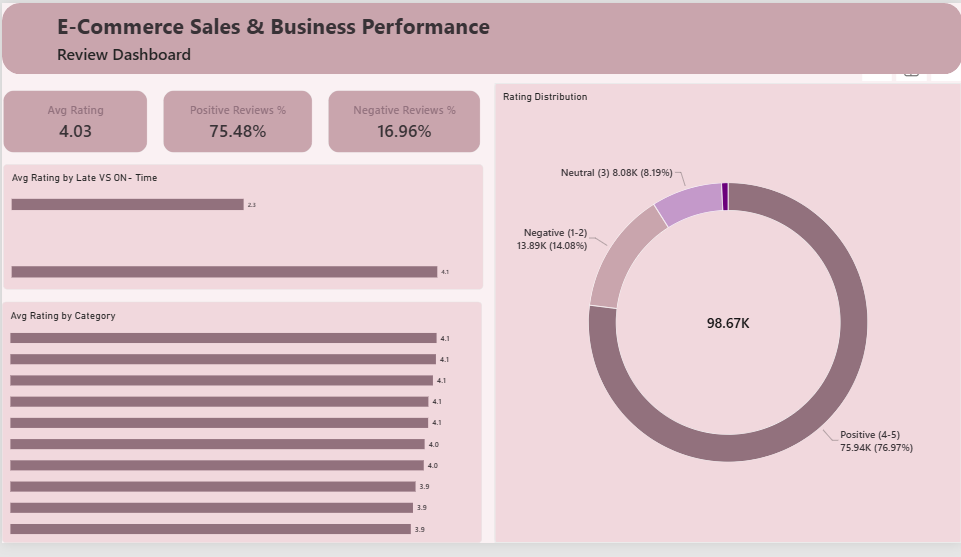

The page's visual inventory and layout, read from the dashboard file:
{"tool":"powerbi","page":{"name":"Review","canvas":[1920,1080],"ordinal":5},"visuals":[{"type":"cardVisual","title":"On Time %","fields":{"Data":["public bi_fact_sales.Avg Rating"]},"box":[2.5,175,288,124],"z":0},{"type":"cardVisual","title":"On Time %","fields":{"Data":["public bi_fact_sales.Positive Reviews %"]},"box":[322.5,175,298,124],"z":1000},{"type":"cardVisual","title":"On Time %","fields":{"Data":["public bi_fact_sales.Negative Reviews %"]},"box":[652.5,175,304,124],"z":2000},{"type":"donutChart","title":"Rating Distribution","fields":{"Category":["public bi_fact_sales.Review Bucket"],"Y":["public bi_fact_sales.Orders"]},"box":[985,160,935,920],"z":3000},{"type":"barChart","title":"Avg Rating by Late VS ON- Time","fields":{"Category":["public bi_fact_sales.is_late"],"Y":["public bi_fact_sales.Avg Rating"]},"box":[2.5,322.5,960,250],"z":4000},{"type":"barChart","title":"Avg Rating by Category","fields":{"Category":["public bi_fact_sales.category"],"Y":["public bi_fact_sales.Avg Rating"]},"box":[0,597.5,960,482.5],"z":5000},{"type":"group","id":"g1","title":"Group 1","box":[0,0,1920,142.5],"z":5001},{"type":"shape","box":[0,0,1920,142.5],"z":11000,"group":"g1"},{"type":"textbox","box":[110.1,15.9,1085,63.8],"z":13000,"group":"g1"},{"type":"textbox","box":[110.1,79.7,596.4,47.8],"z":14000,"group":"g1"}]}

Visuals, with their boxes in screenshot pixels (x1, y1, x2, y2), scaled from the page's 1920x1080 canvas onto the 961x557 screenshot:
"On Time %" cardVisual: 1/90/145/154
"On Time %" cardVisual: 161/90/311/154
"On Time %" cardVisual: 327/90/479/154
"Rating Distribution" donutChart: 493/83/960/556
"Avg Rating by Late VS ON- Time" barChart: 1/166/482/295
"Avg Rating by Category" barChart: 0/308/480/556
"Group 1" group: 0/0/960/73
shape: 0/0/960/73
textbox: 55/8/598/41
textbox: 55/41/354/66
